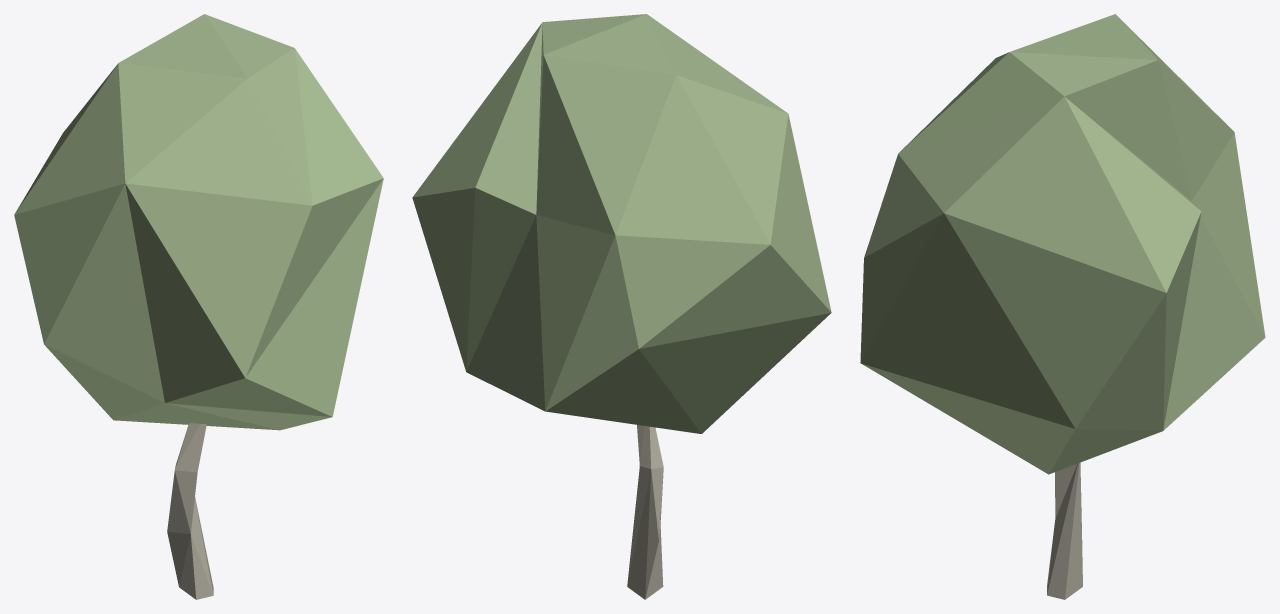
File: TiliaAmericana.glb
The picture shows the model from 3 angles, left to right: view 1: azimuth 30°, elevation 25°; view 2: azimuth 150°, elevation 25°; view 3: azimuth 270°, elevation 25°; orthographic projection. The views are drawn at different scales.
Visible parts, largest first — view 1: Crown, Trunk; view 2: Crown, Trunk; view 3: Crown, Trunk.
Boxes of the visible parts, x1,y1,x2,y2 form: Crown: [14, 14, 383, 430]; Trunk: [167, 423, 213, 599]; Crown: [412, 14, 831, 433]; Trunk: [627, 425, 663, 599]; Crown: [860, 14, 1265, 474]; Trunk: [1047, 463, 1082, 599].
Bounding box in the file's own units: 19.69 × 29.49 × 19.4.
